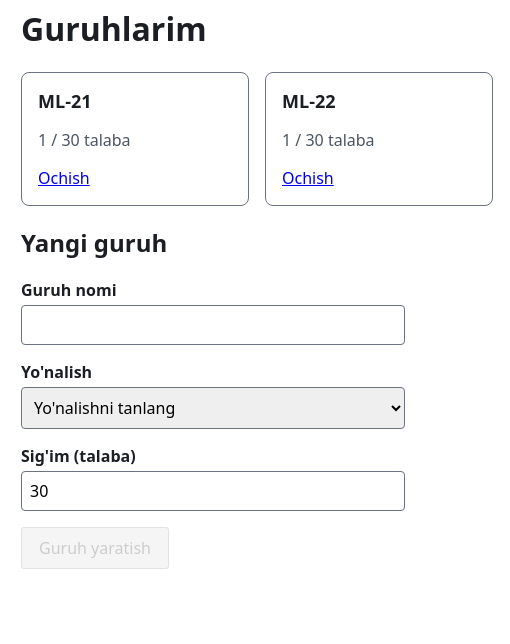
/sections (SEC-01) › maydon xatosi ko'rsatiladi
Type "X" into the field labelled "Guruh nomi" at (213, 325), box [21,305,405,345]
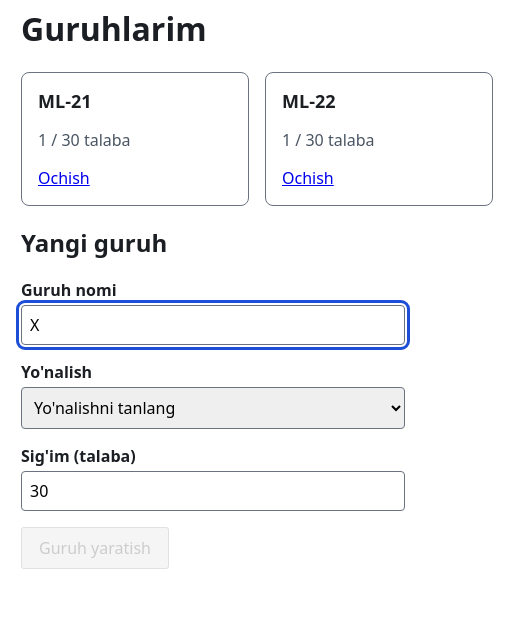
Select "Dasturiy injiniring" in the dropdown labelled "Yo'nalish" at (213, 408), box [21,387,405,429]
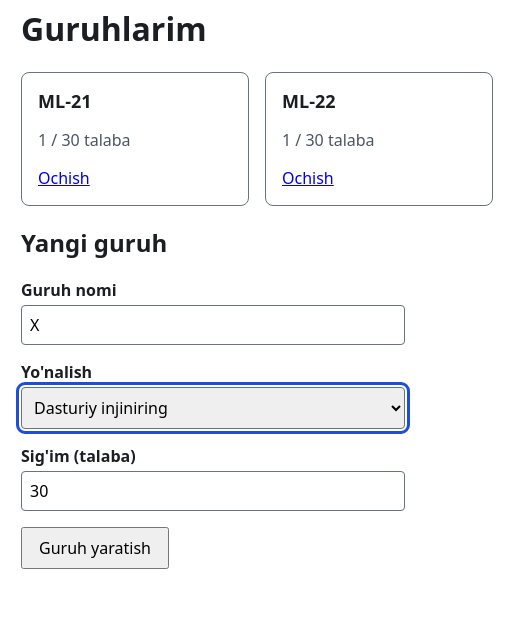
Click the button "Guruh yaratish" at (95, 548), box [21,527,169,569]
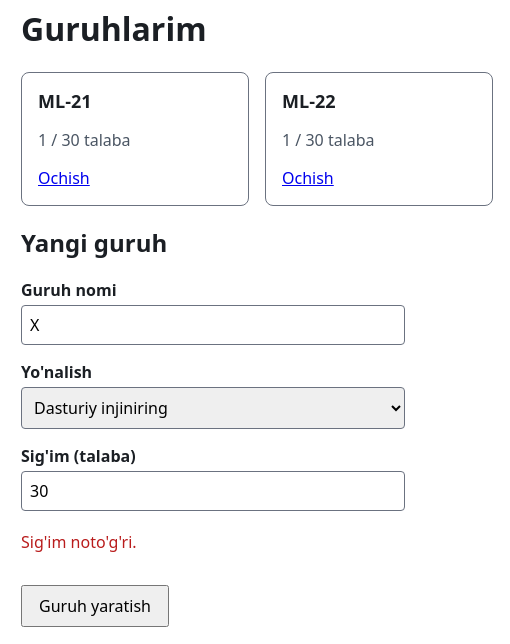
Expected: the text "Sig'im noto'g'ri." is shown, [21,531,137,553]
